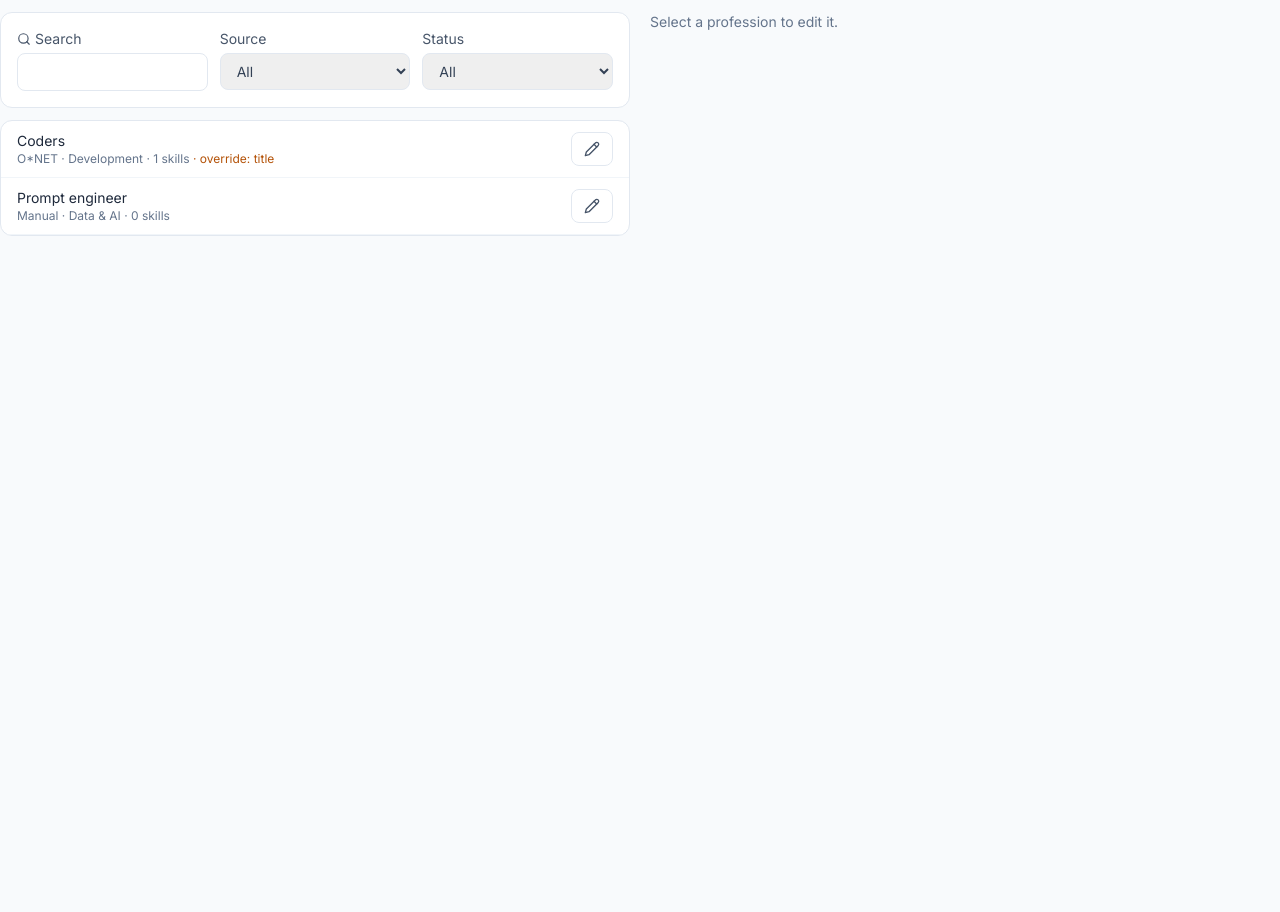
Test case: ProfessionsTab › a busy taxonomy (409) is explained
Step 1. Click the button named "Edit Coders" → {"x": 592, "y": 149}, box top-left (571, 132), bottom-right (613, 166)
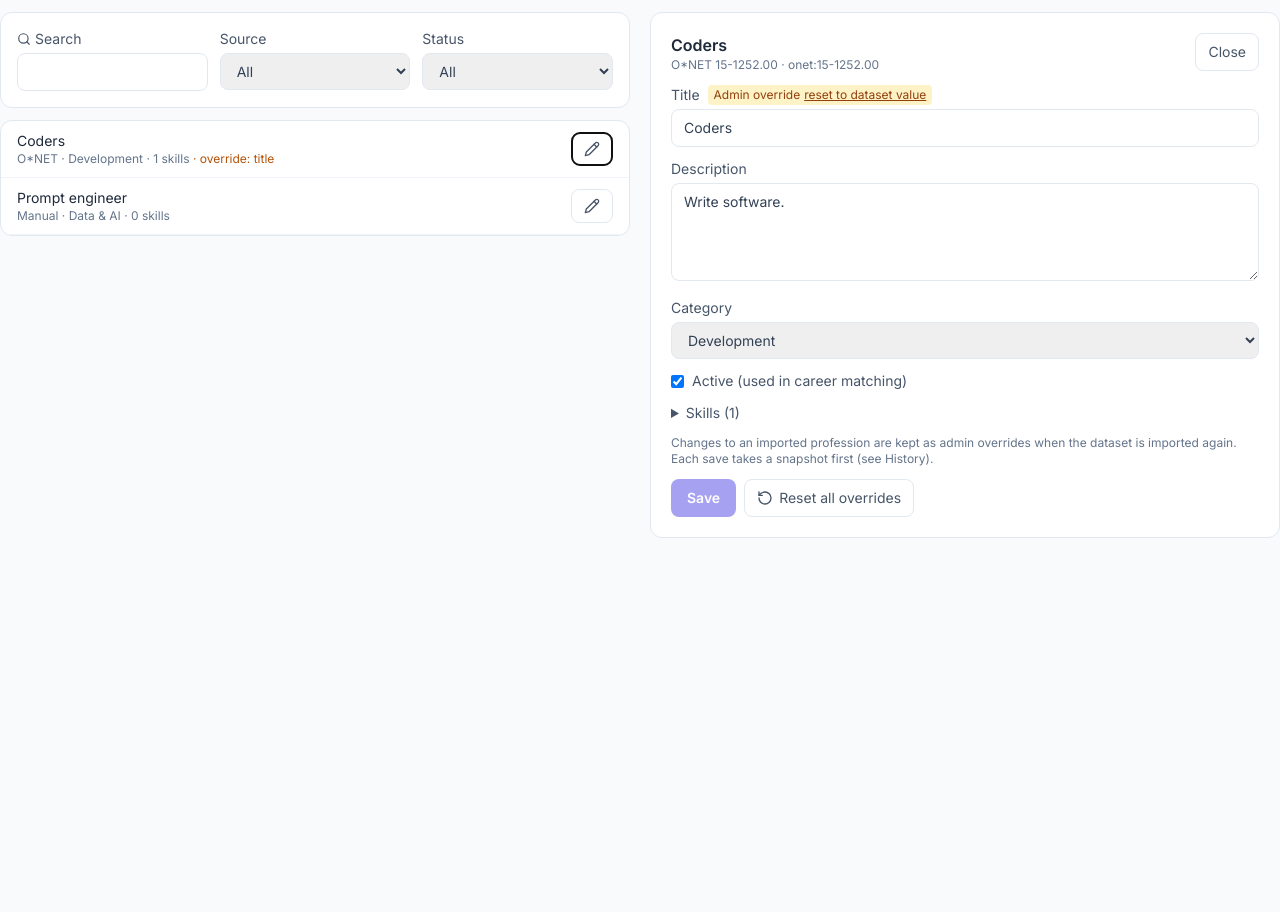
Step 2. Replace the text in the field labelled "Title" with "Programmers" → {"x": 965, "y": 128}, box top-left (671, 109), bottom-right (1259, 147)
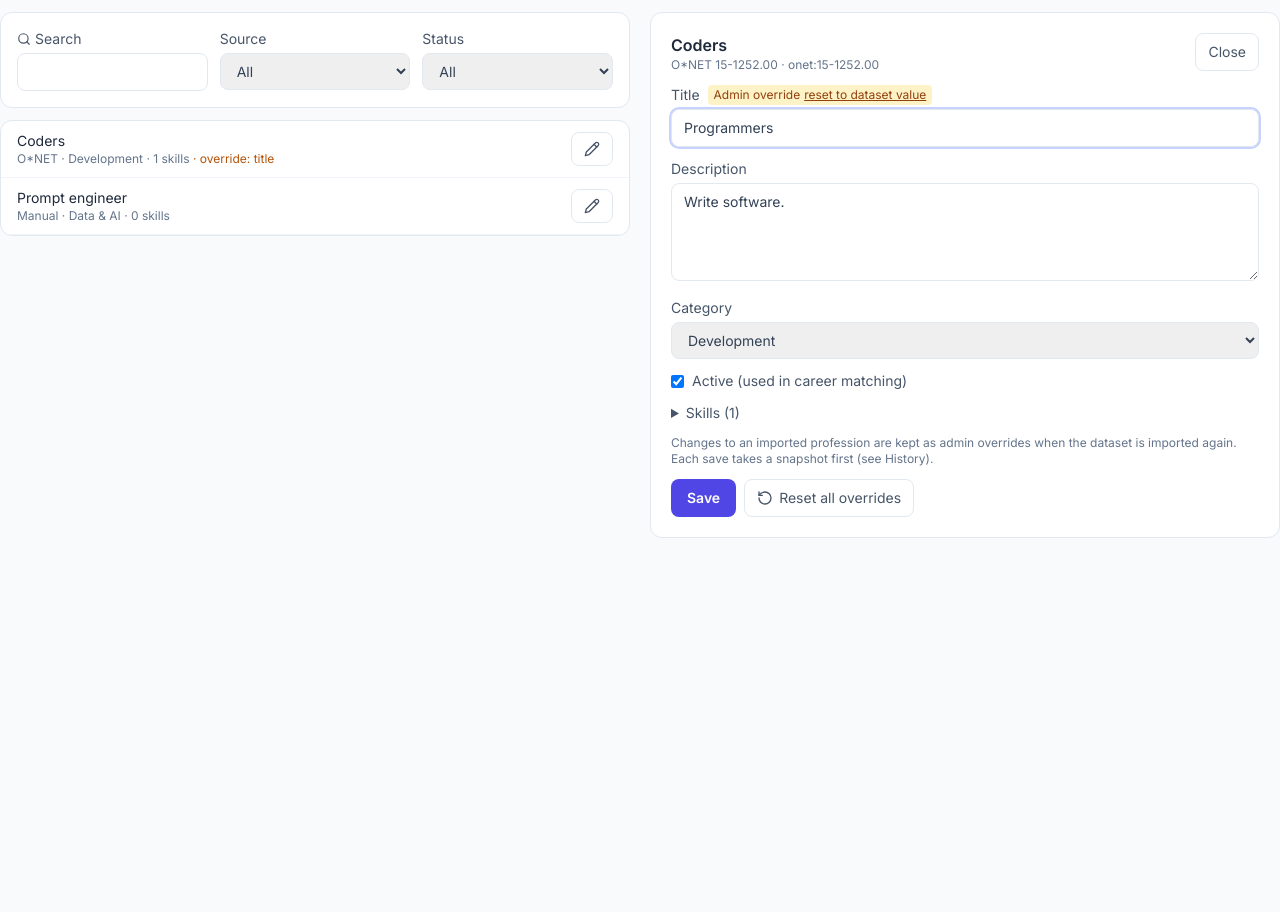
Step 3. Click the button "Save" → {"x": 704, "y": 498}, box top-left (671, 479), bottom-right (736, 517)
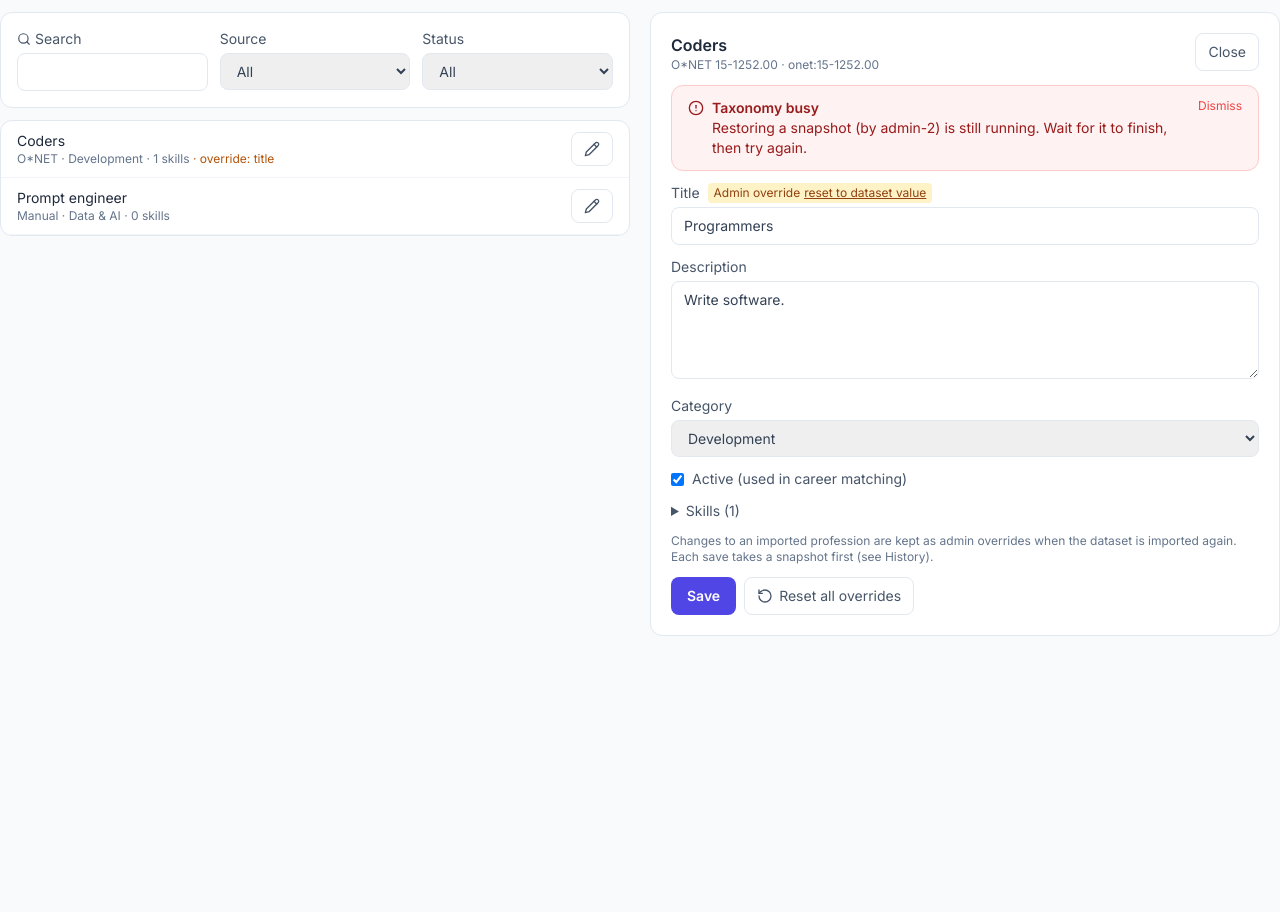
Expected: the text "Restoring a snapshot (by admin-2)" is shown, top-left (712, 119), bottom-right (1167, 156)
